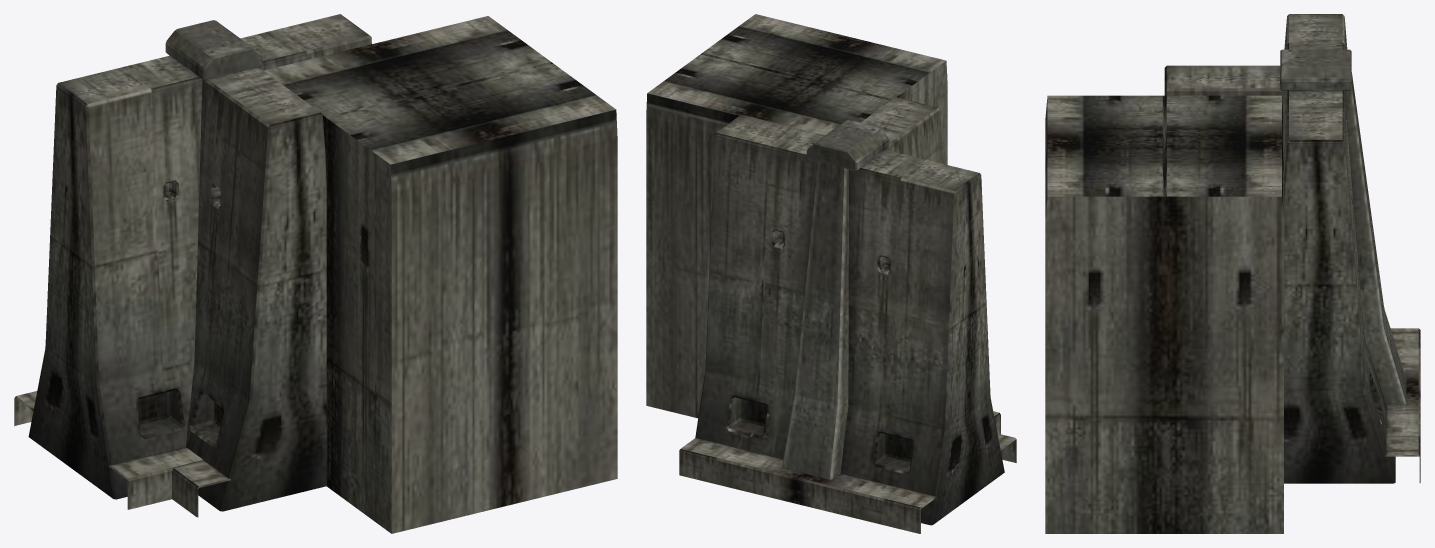
File: stone-wall-esw-fill.glb
The picture shows the model from 3 angles, left to right: view 1: azimuth 30°, elevation 25°; view 2: azimuth 150°, elevation 25°; view 3: azimuth 270°, elevation 25°; orthographic projection. The views are drawn at different scales.
Visible parts, largest first — view 1: body; view 2: body; view 3: body.
Boxes of the visible parts, x1=… form: body: x1=14, y1=14, x2=617, y2=533; body: x1=646, y1=14, x2=1016, y2=533; body: x1=1045, y1=14, x2=1420, y2=533.
Bounding box in the file's own units: 1.4 × 1.32 × 1.24.
Materials: 1 (1 with a texture image).
